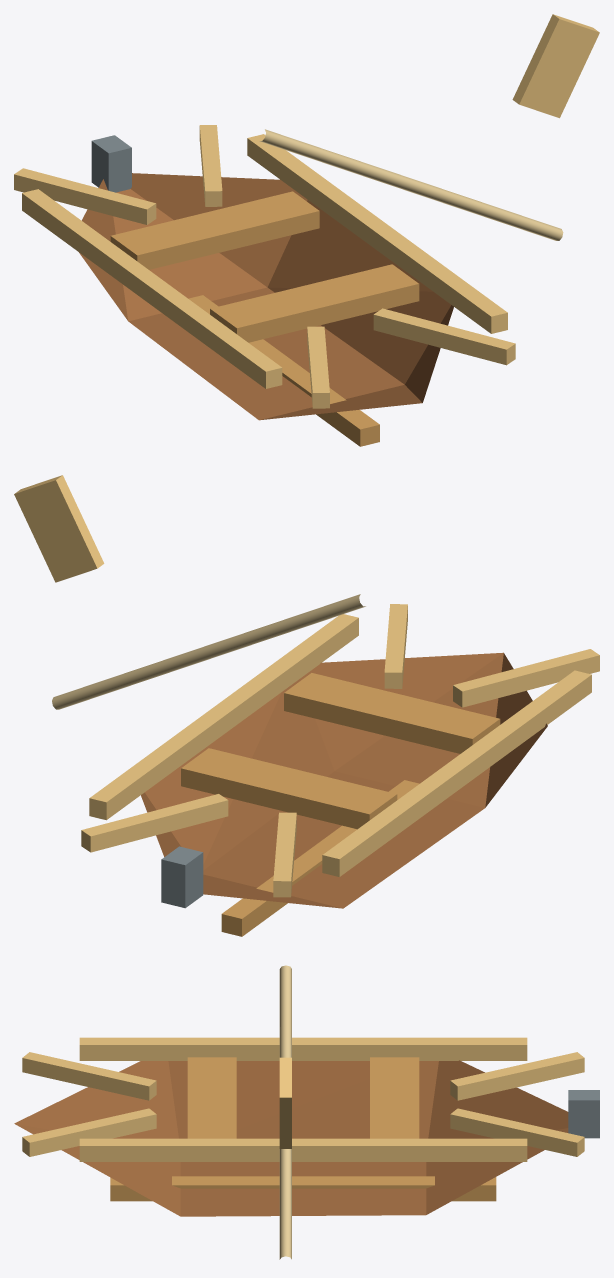
Rendered from canoe.glb.
3 renders of one model, top to bottom at view 1: azimuth 30°, elevation 25°; view 2: azimuth 150°, elevation 25°; view 3: azimuth 270°, elevation 25°, orthographic. The views are drawn at different scales.
Parts seen in each view (by area): view 1: ExpeditionCanoe; view 2: ExpeditionCanoe; view 3: ExpeditionCanoe.
Part boxes in pixels (x1=…): ExpeditionCanoe: x1=14, y1=14, x2=599, y2=446; ExpeditionCanoe: x1=14, y1=475, x2=599, y2=936; ExpeditionCanoe: x1=14, y1=965, x2=599, y2=1259.
Size of the model in its own units: 2.7 by 1.67 by 3.34.
